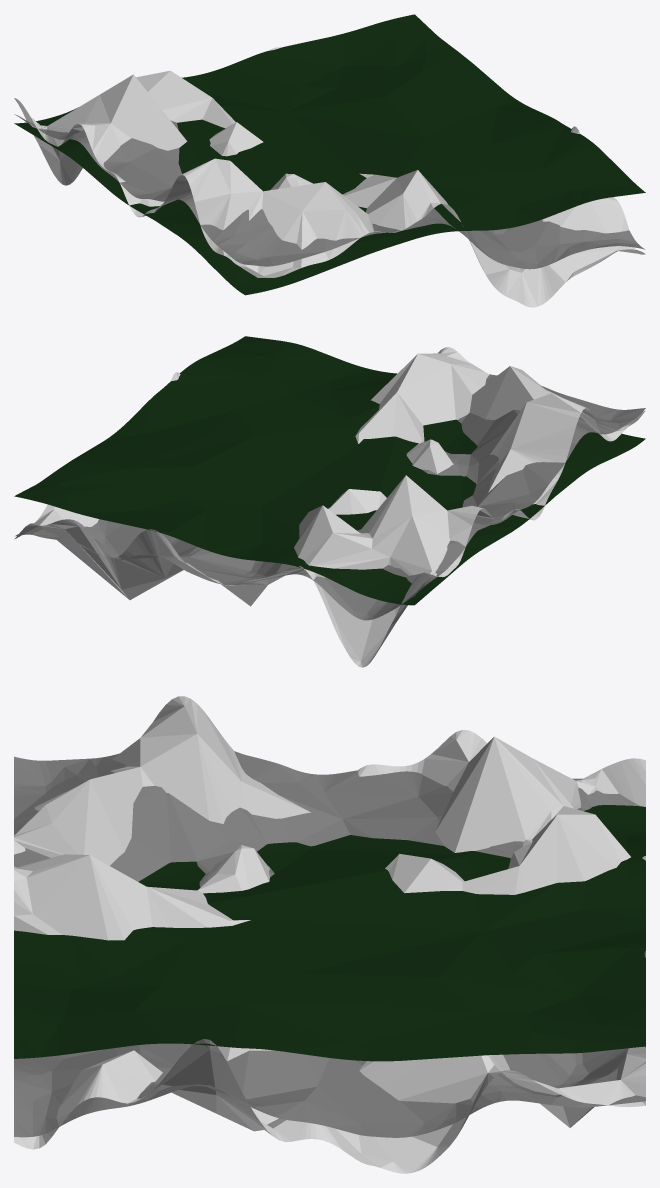
Rendered from landscape mountain 3.FBX.
The picture shows the model from 3 angles, top to bottom: view 1: azimuth 30°, elevation 25°; view 2: azimuth 150°, elevation 25°; view 3: azimuth 270°, elevation 25°; orthographic projection. The views are drawn at different scales.
Parts seen in each view (by area): view 1: Plane001, Plane003, Plane002; view 2: Plane001, Plane003, Plane002; view 3: Plane001, Plane003, Plane002.
Part boxes in pixels (x1,y1,x2,y2): Plane001: [14, 14, 645, 295]; Plane003: [14, 47, 645, 307]; Plane002: [14, 114, 645, 269]; Plane001: [14, 336, 645, 605]; Plane003: [14, 347, 645, 667]; Plane002: [15, 374, 645, 620]; Plane001: [14, 805, 645, 1061]; Plane003: [14, 696, 645, 1173]; Plane002: [14, 751, 645, 1137].
Bounding box in the file's own units: 39370 × 16170 × 39370.
